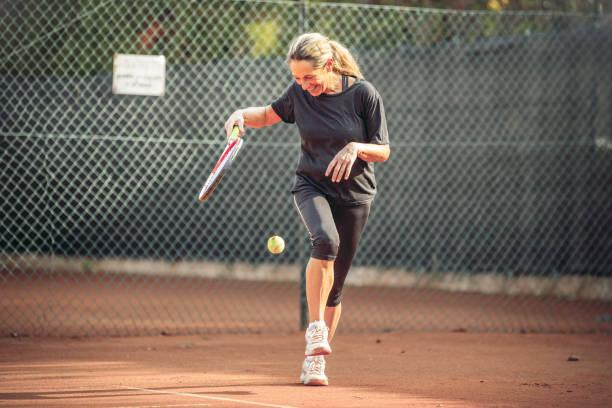ball_tennis: (266, 234, 287, 254)
